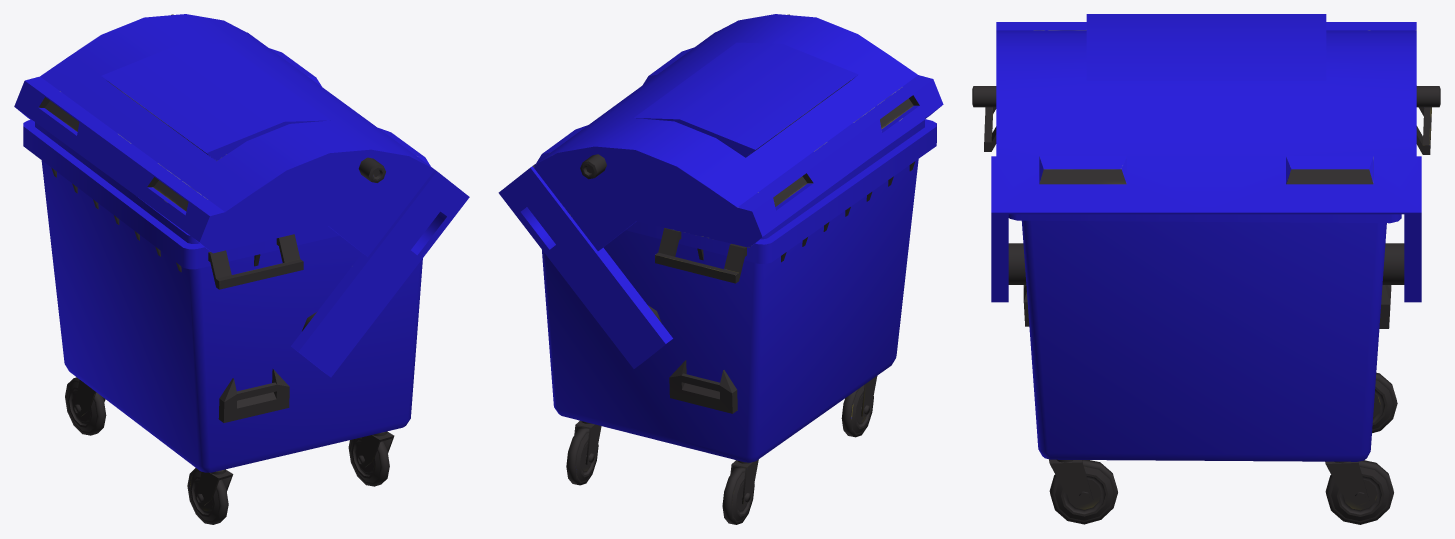
The model's file is DumpsterBlue.glb.
3 views of the same model, side by side, from view 1: azimuth 30°, elevation 25°; view 2: azimuth 150°, elevation 25°; view 3: azimuth 270°, elevation 25° (orthographic). The views are drawn at different scales.
Parts seen in each view (by area): view 1: Tonne; view 2: Tonne; view 3: Tonne.
Part boxes in pixels (<box>): Tonne: <box>14,14,469,524</box>; Tonne: <box>498,14,943,524</box>; Tonne: <box>972,14,1440,524</box>.
Size of the model in its own units: 2.59 by 3.46 by 3.39.
1 material, 1 textured.
